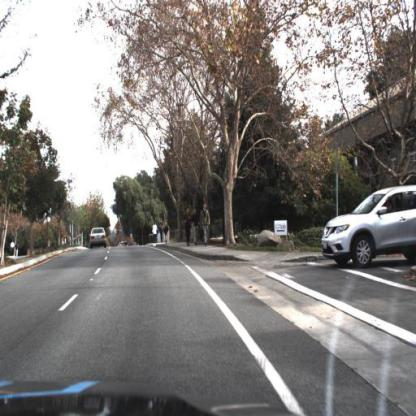car: (322, 187, 416, 268), (88, 227, 110, 250)
pedestrian: (200, 204, 212, 247), (91, 228, 109, 251), (202, 204, 211, 246), (184, 208, 193, 246), (193, 209, 202, 245), (193, 206, 200, 244), (185, 213, 192, 247), (164, 220, 170, 245), (153, 222, 159, 244), (160, 220, 165, 244)
